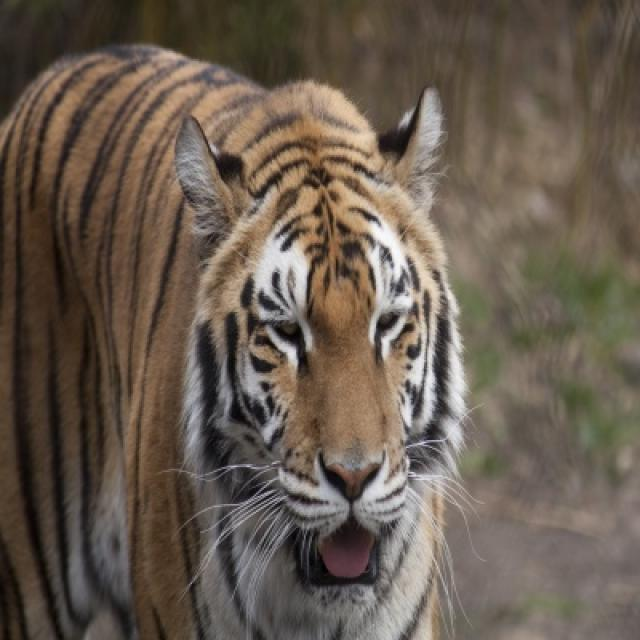Tiger: (0, 46, 464, 638)
